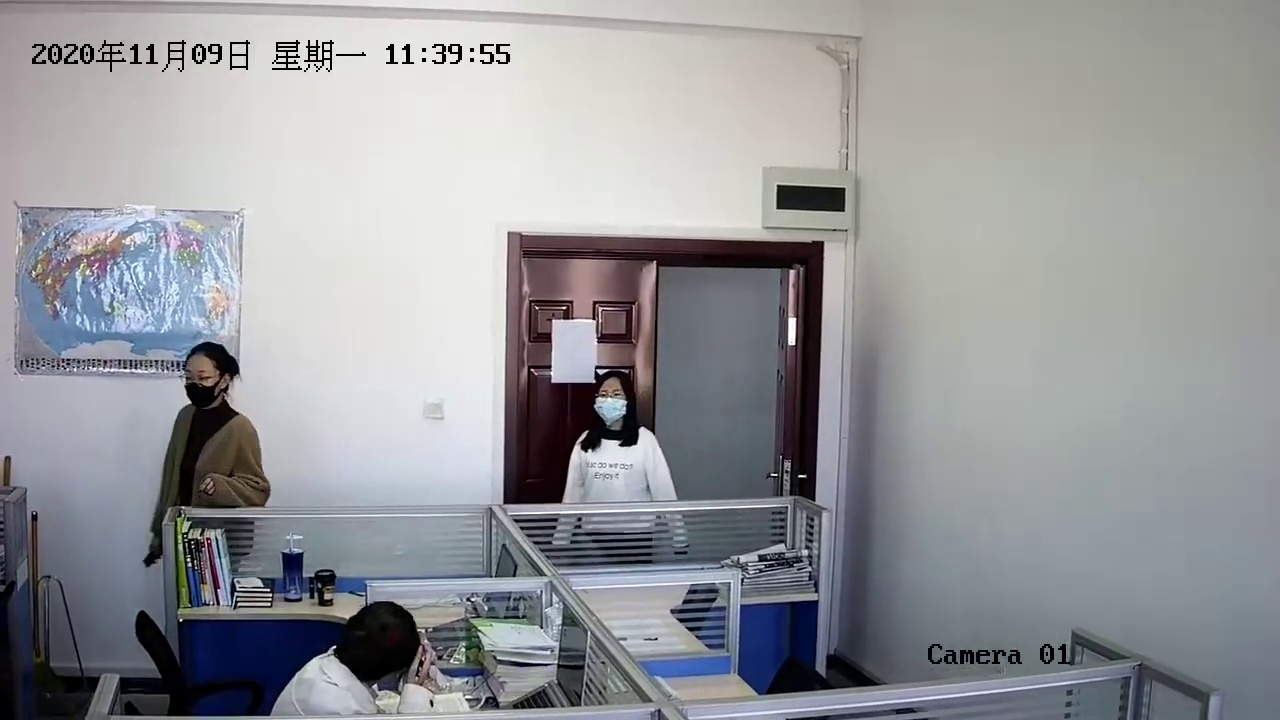mask: (177, 346, 230, 413), (593, 373, 635, 434)
